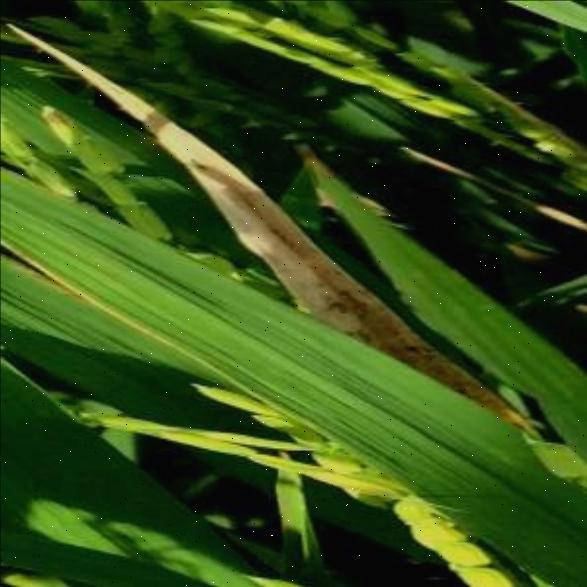Bacteria_Leaf_Blight: (2, 224, 174, 346)
